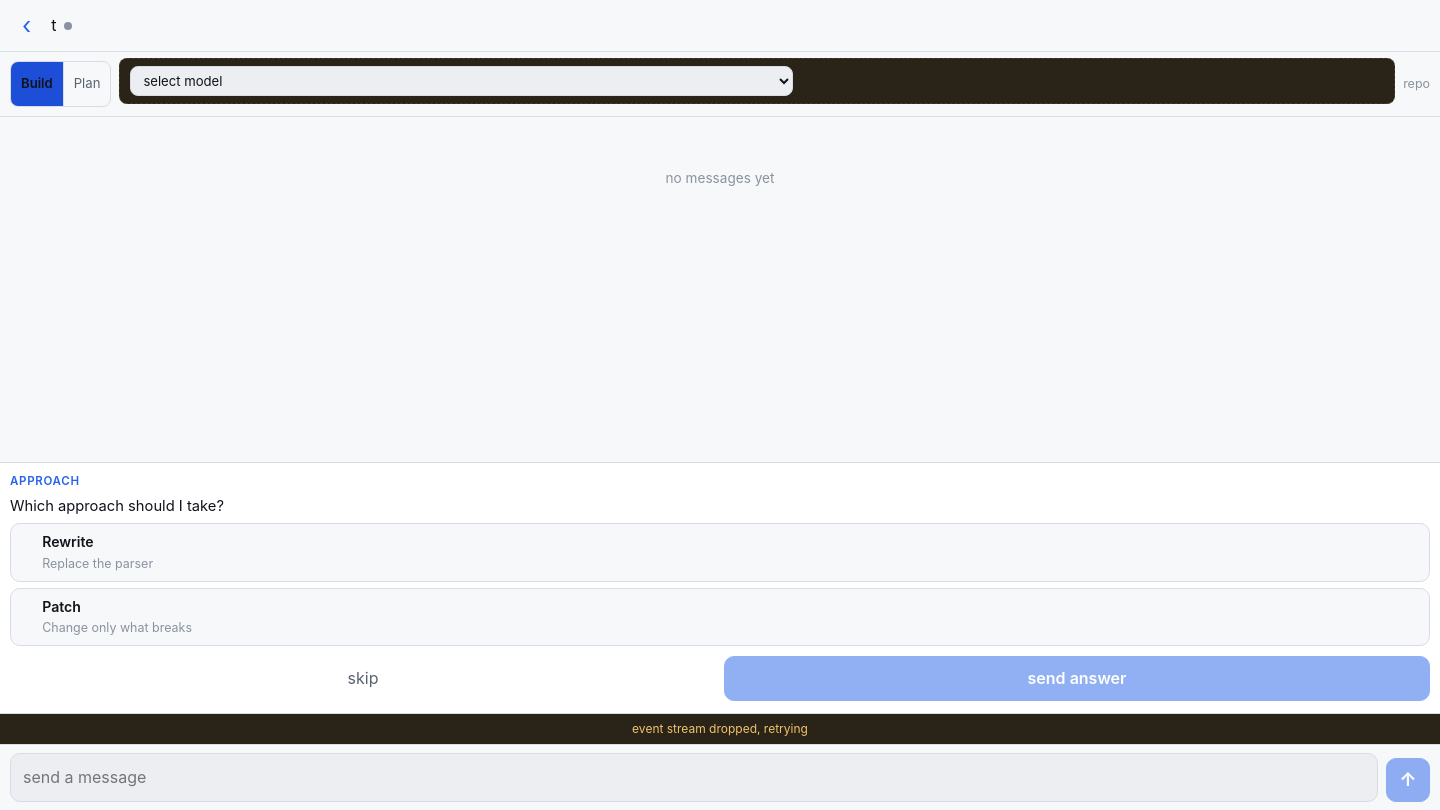
Scenario: SessionView live event rendering › replies with the chosen labels and clears the question
Check: the text "Which approach should I take?" is shown, box [10,497,224,515]
What coordinates should you click on to do the following:
click the text "Patch"
I would click on:
 (62, 606)
Its box is [42,598,81,615].
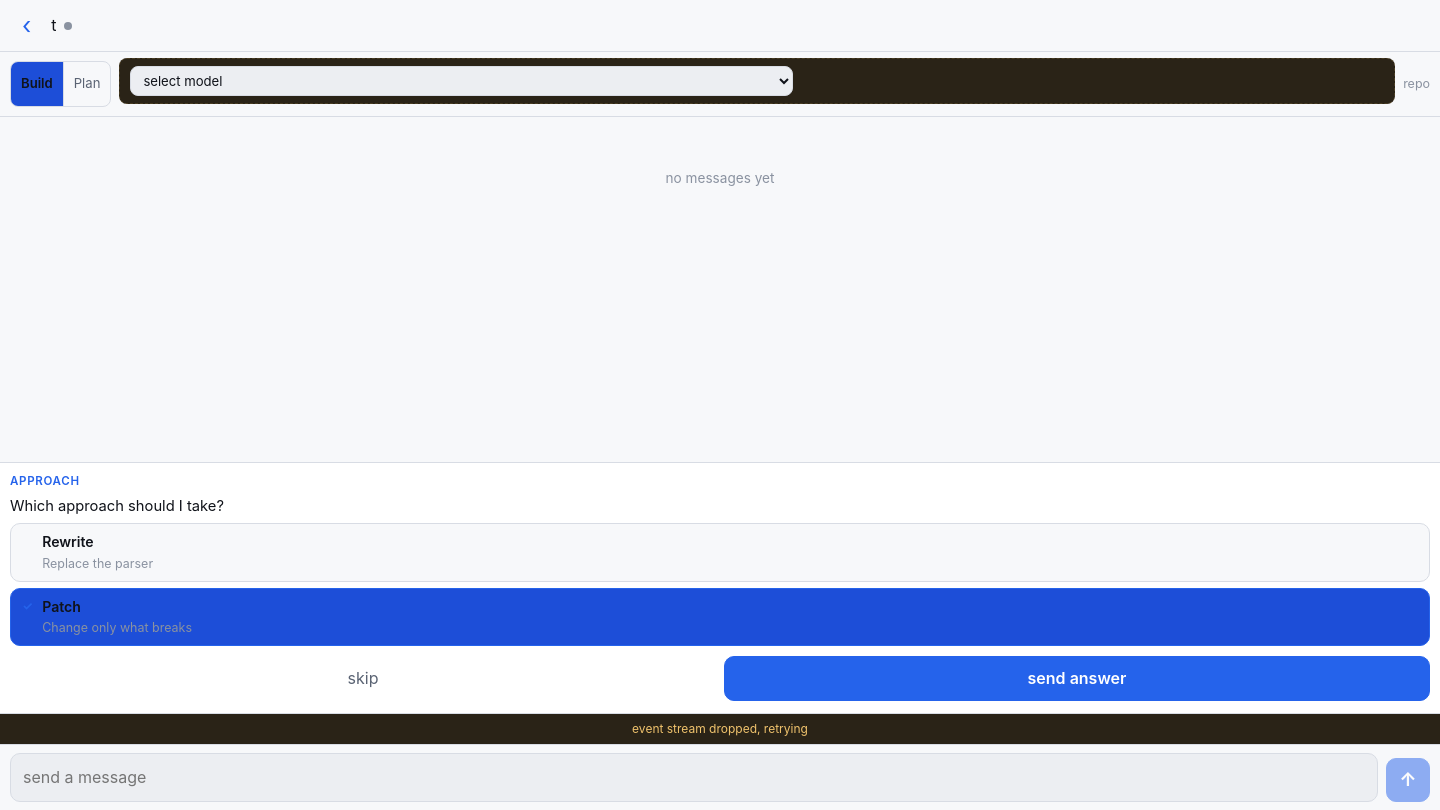
What coordinates should you click on to do the following:
click the button "send answer"
I would click on:
 (1077, 679)
Its box is [724,656,1430,701].
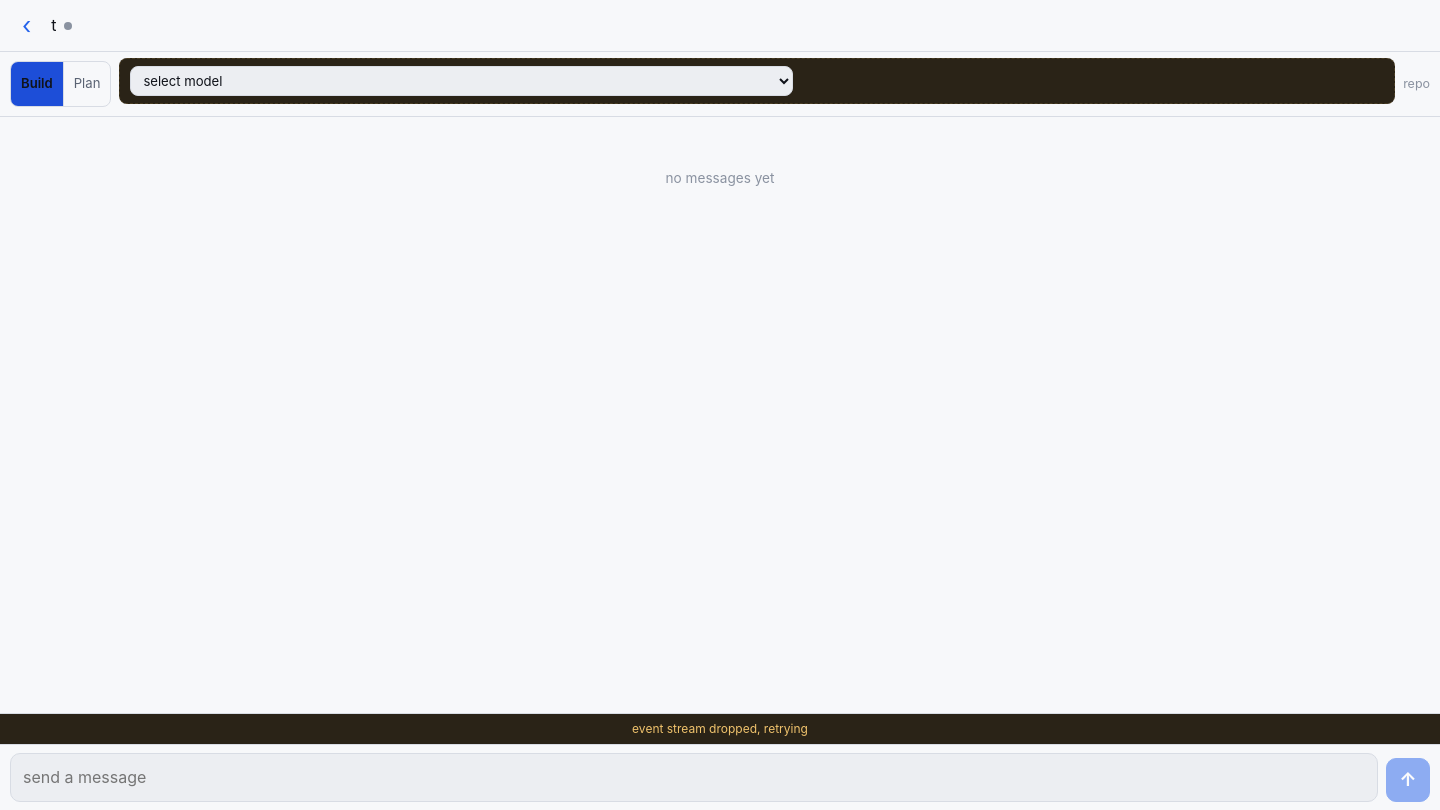
Check: the text "Which approach should I take?" is gone
